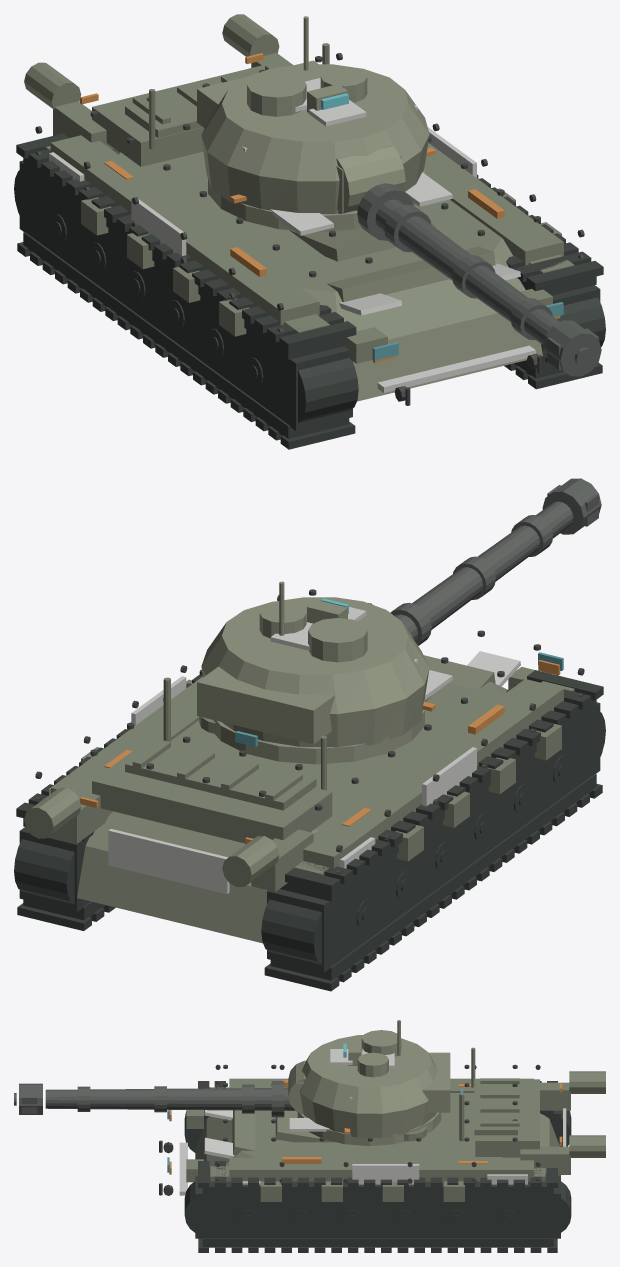
The model's file is medium_tank_articulated.glb.
The picture shows the model from 3 angles, top to bottom: view 1: azimuth 30°, elevation 25°; view 2: azimuth 150°, elevation 25°; view 3: azimuth 270°, elevation 25°; orthographic projection. The views are drawn at different scales.
Parts seen in each view (by area): view 1: BodyRoot_HullArmor, TrackLeft, TurretRoot_TurretArmor, BarrelRoot_BarrelMesh, TeamColorPanels_Body, TrackRight, BoltsAndFasteners, Emissive_Body, TeamColorPanels_Turret; view 2: BodyRoot_HullArmor, TrackLeft, TurretRoot_TurretArmor, BarrelRoot_BarrelMesh, TeamColorPanels_Body, TrackRight, BoltsAndFasteners, Emissive_Body, TeamColorPanels_Turret; view 3: TrackRight, BodyRoot_HullArmor, TurretRoot_TurretArmor, BarrelRoot_BarrelMesh, TeamColorPanels_Body, TrackLeft, BoltsAndFasteners, Emissive_Body, TeamColorPanels_Turret.
Part boxes in pixels (left/top/right/bottom): BodyRoot_HullArmor: left=24, top=14, right=574, bottom=401; TrackLeft: left=14, top=133, right=358, bottom=449; TurretRoot_TurretArmor: left=197, top=16, right=429, bottom=231; BarrelRoot_BarrelMesh: left=356, top=183, right=601, bottom=376; TeamColorPanels_Body: left=49, top=127, right=535, bottom=392; TrackRight: left=477, top=174, right=605, bottom=389; BoltsAndFasteners: left=35, top=53, right=584, bottom=405; Emissive_Body: left=80, top=53, right=560, bottom=363; TeamColorPanels_Turret: left=242, top=78, right=417, bottom=152; BodyRoot_HullArmor: left=24, top=655, right=574, bottom=943; TrackLeft: left=261, top=670, right=605, bottom=991; TurretRoot_TurretArmor: left=197, top=581, right=429, bottom=764; BarrelRoot_BarrelMesh: left=390, top=478, right=601, bottom=645; TeamColorPanels_Body: left=49, top=651, right=520, bottom=894; TrackRight: left=14, top=674, right=202, bottom=930; BoltsAndFasteners: left=35, top=589, right=584, bottom=874; Emissive_Body: left=80, top=660, right=560, bottom=844; TeamColorPanels_Turret: left=270, top=607, right=417, bottom=663; TrackRight: left=184, top=1161, right=571, bottom=1252; BodyRoot_HullArmor: left=186, top=1047, right=605, bottom=1201; TurretRoot_TurretArmor: left=288, top=1020, right=450, bottom=1145; BarrelRoot_BarrelMesh: left=14, top=1081, right=295, bottom=1117; TeamColorPanels_Body: left=179, top=1108, right=566, bottom=1195; TrackLeft: left=184, top=1081, right=571, bottom=1152; BoltsAndFasteners: left=159, top=1064, right=540, bottom=1195; Emissive_Body: left=169, top=1080, right=562, bottom=1174; TeamColorPanels_Turret: left=330, top=1048, right=394, bottom=1099.
Size of the model in its own units: 3.55 by 2.9 by 8.39.
